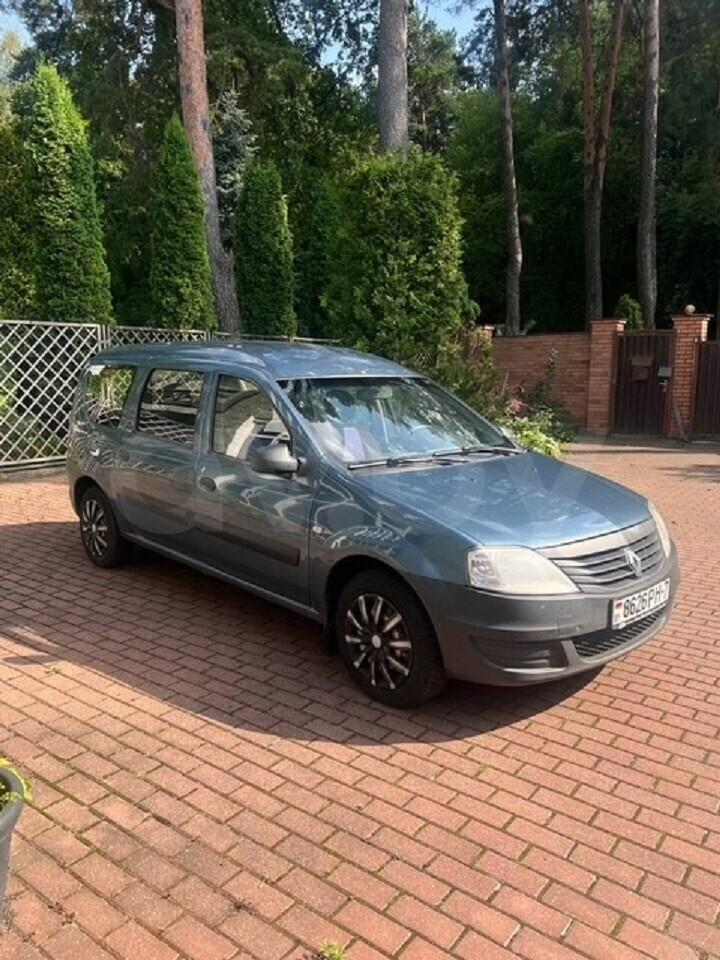Logan_2008-2015: (59, 335, 694, 715)
